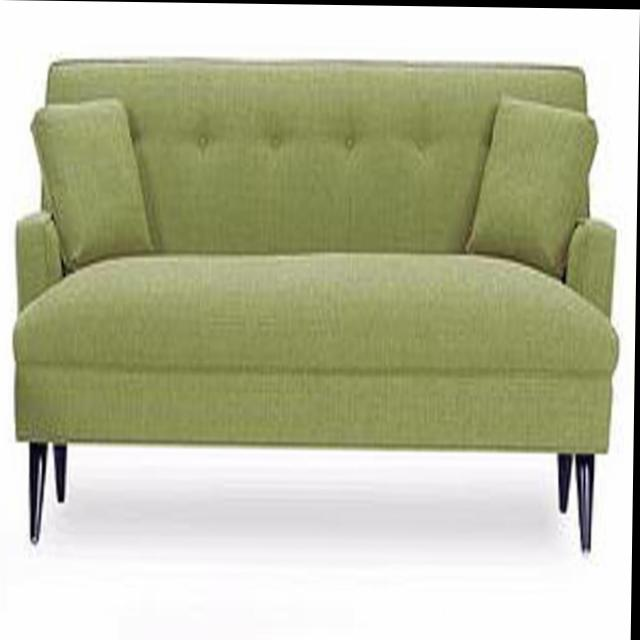Sofa: (13, 57, 624, 548)
